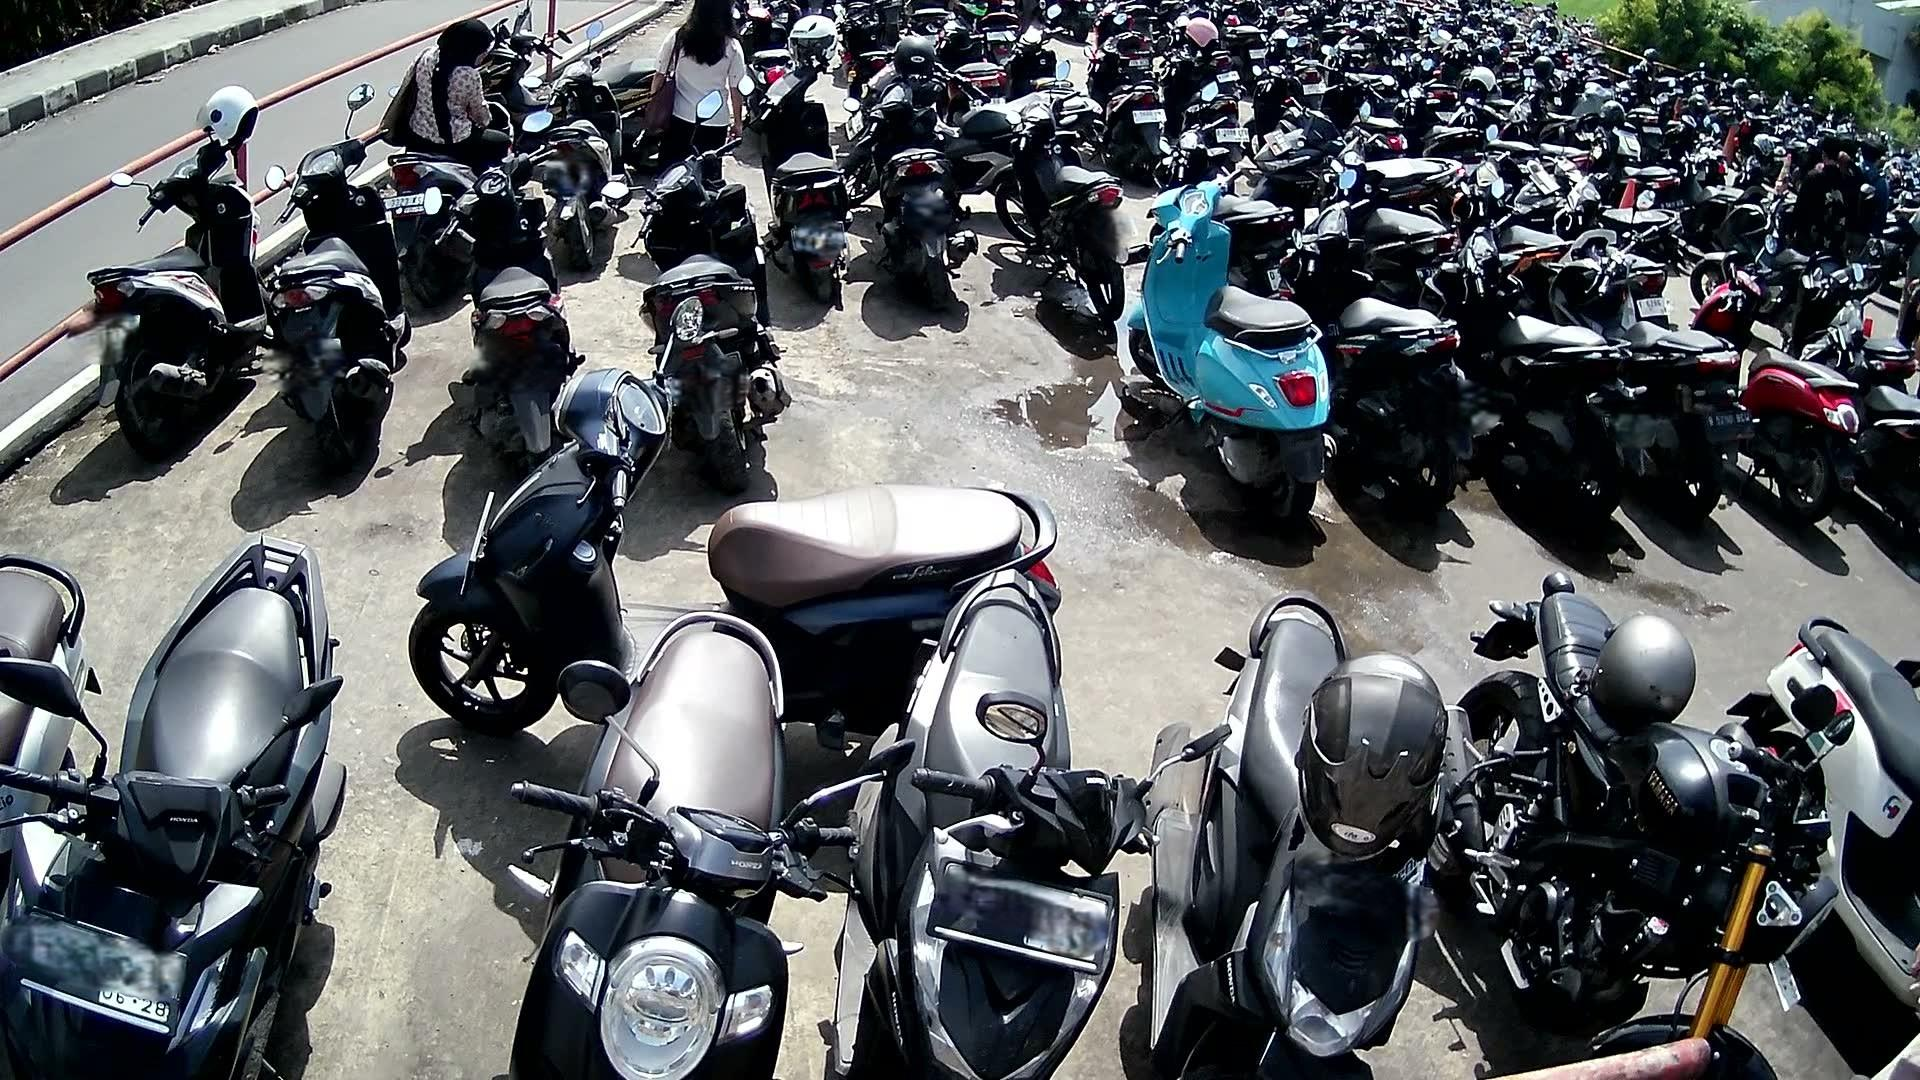motorcycle: (405, 332, 1063, 738), (1449, 572, 1845, 1080), (0, 527, 353, 1080), (827, 572, 1176, 1080), (510, 615, 852, 1080), (1145, 596, 1441, 1080), (1730, 613, 1920, 1080), (1121, 173, 1338, 522), (1418, 207, 1650, 524), (1276, 181, 1482, 512), (611, 125, 794, 493), (1544, 223, 1756, 526), (87, 124, 265, 460), (422, 136, 592, 487), (261, 119, 414, 473), (1688, 262, 1865, 527), (0, 547, 108, 884), (1800, 298, 1920, 530)
